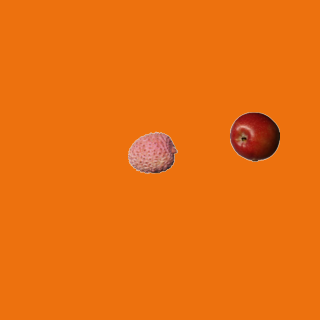Apple Braeburn: (229, 111, 279, 161)
Lychee: (127, 127, 177, 177)
